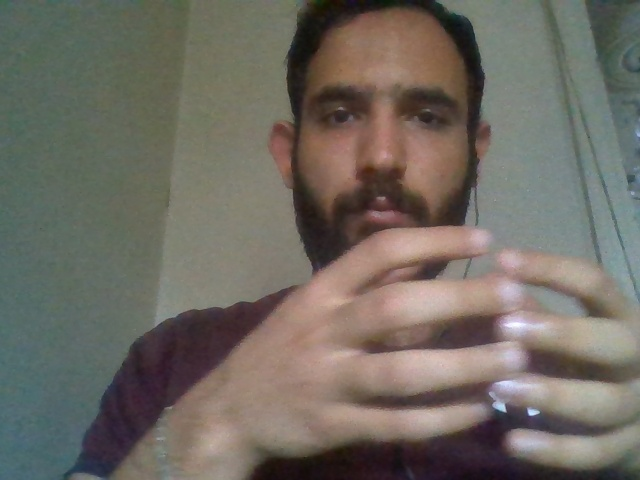Story: (230, 205, 640, 480)
